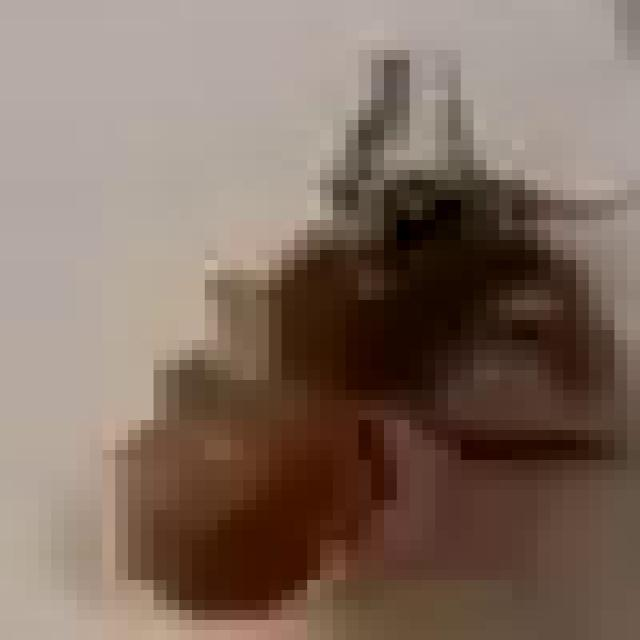honeybee: (174, 100, 575, 613)
